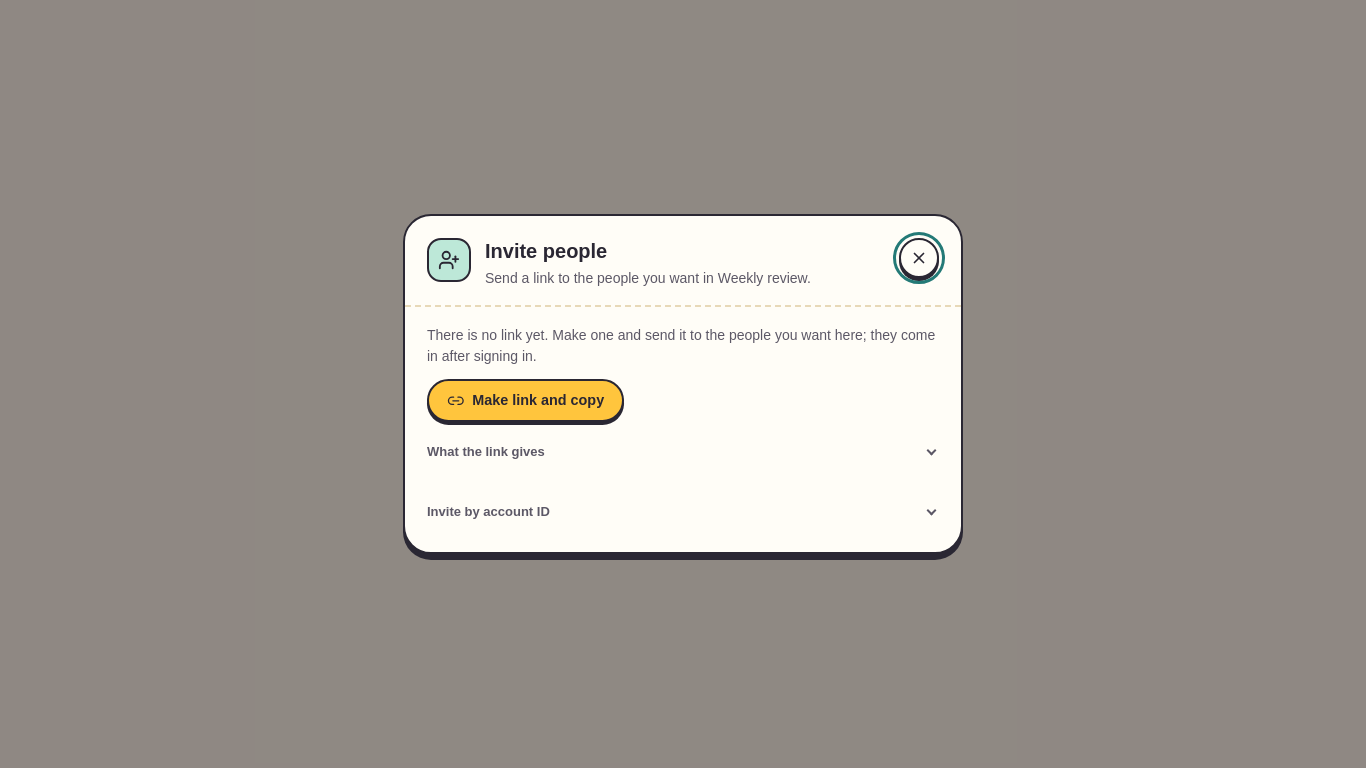
邀请人 › 还没有链接时一个按钮生成，默认给查看、发言、自动发言
Click the button "Make link and copy": (525, 400) [427,379,624,422]
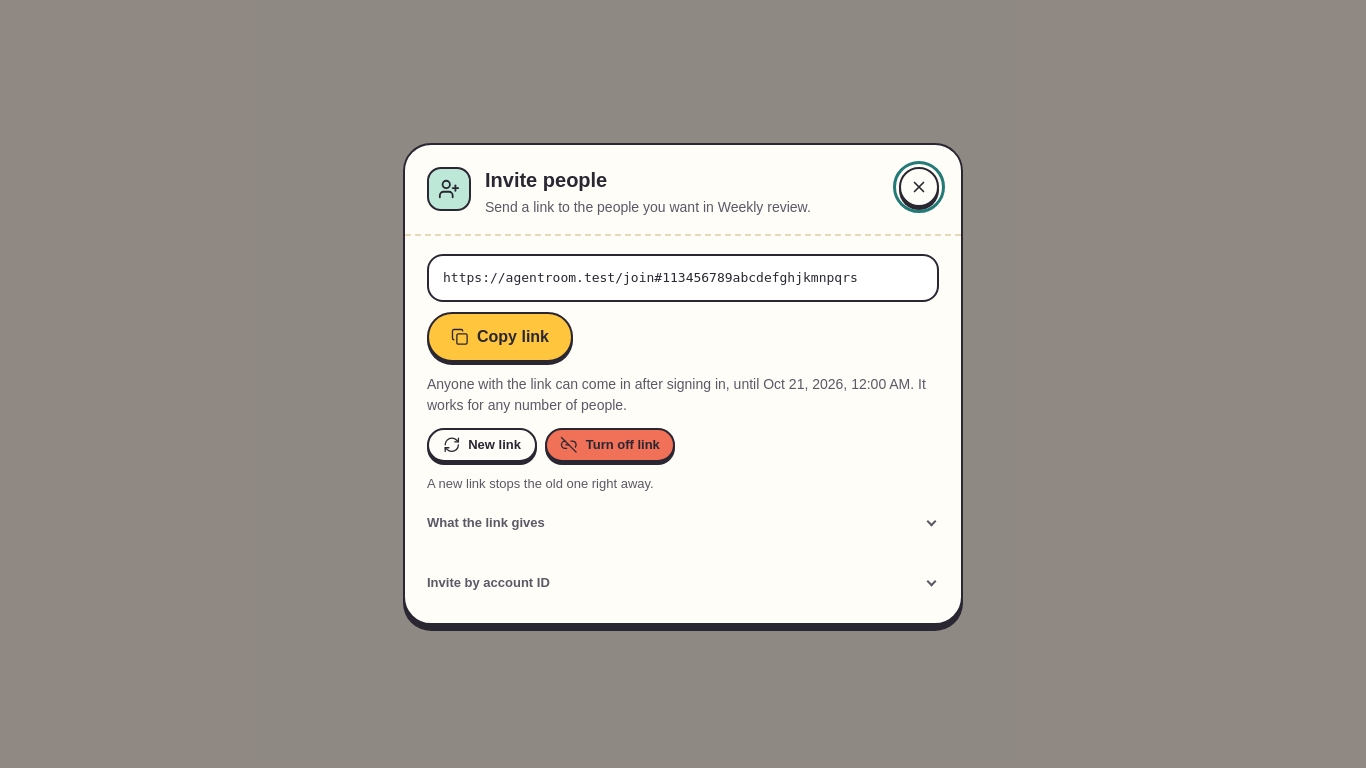
Check: the text "https://agentroom.test/join#113456789abcdefghjkmnpqrs" is shown, box [427,254,939,302]
Check: the text "Anyone with the link can come in after signing in" is shown, box [427,376,926,414]
